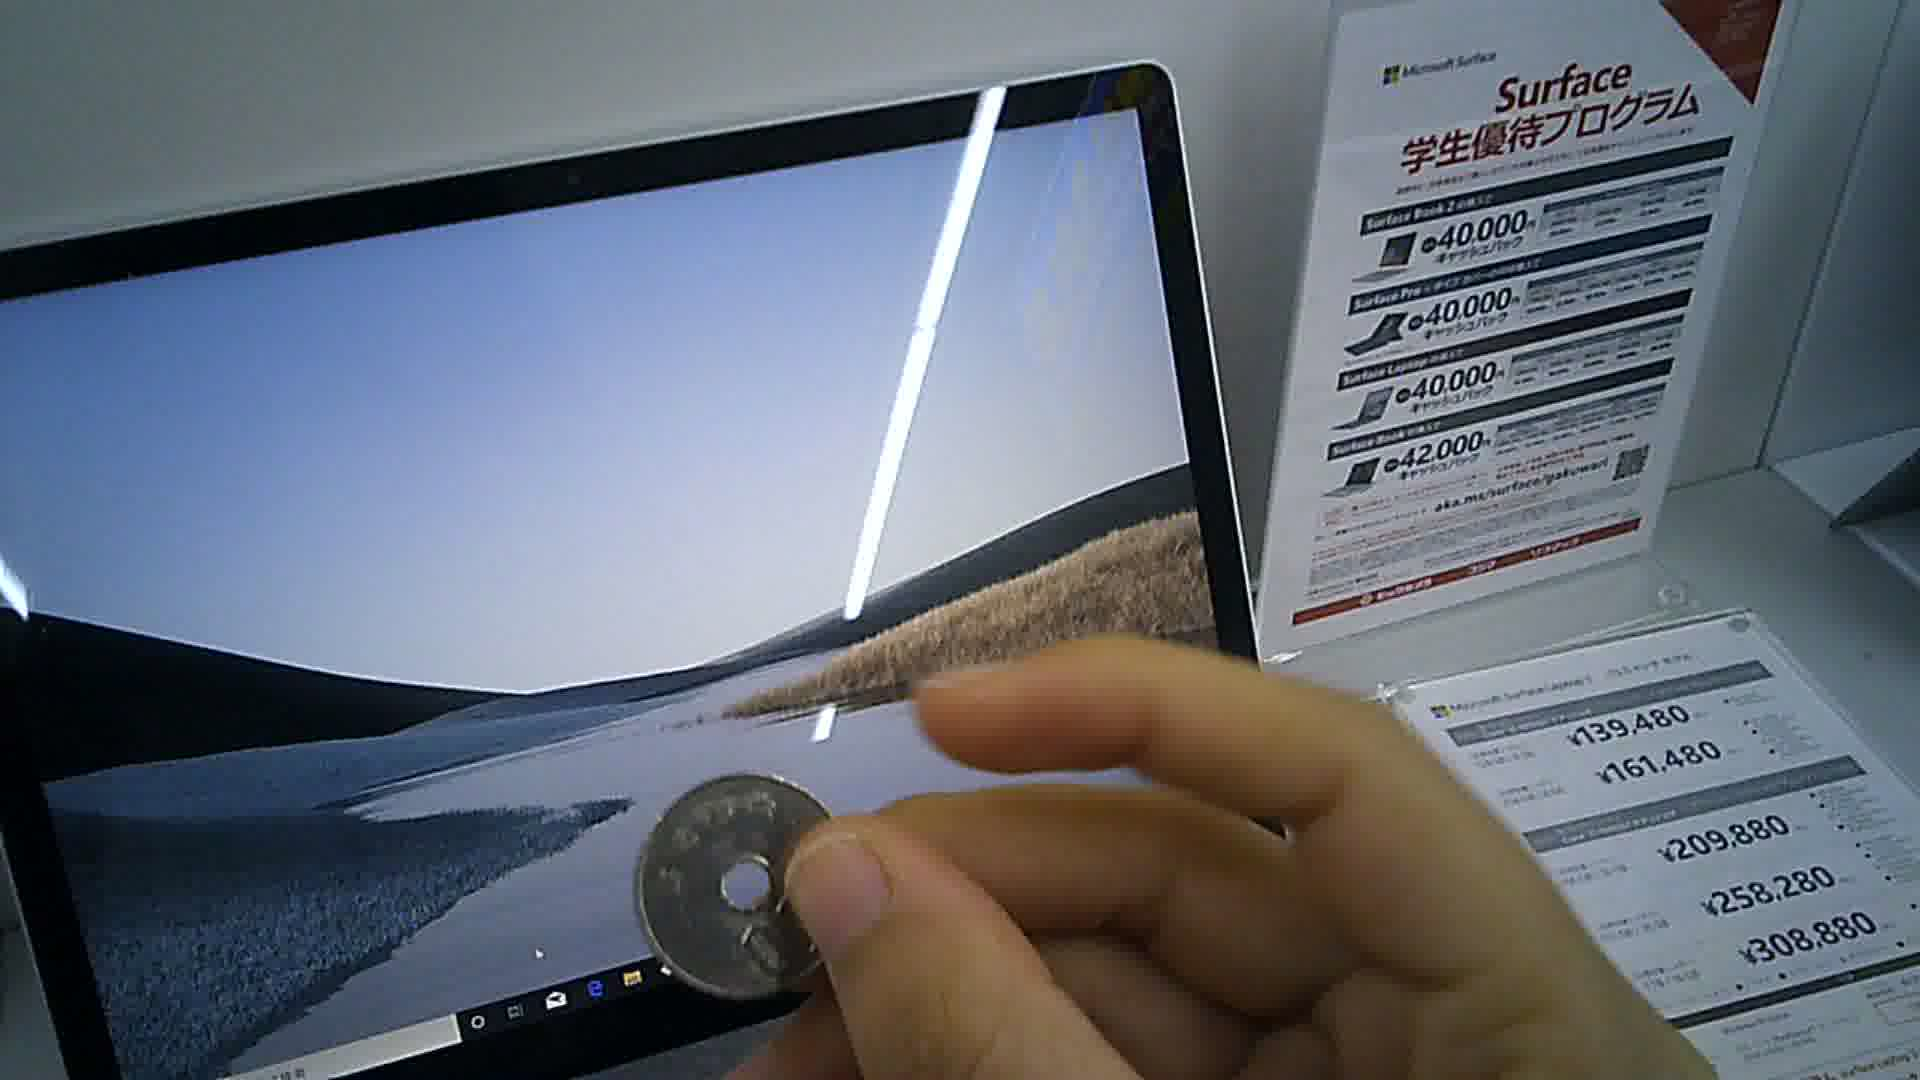50 Yen: (632, 767, 847, 1006)
